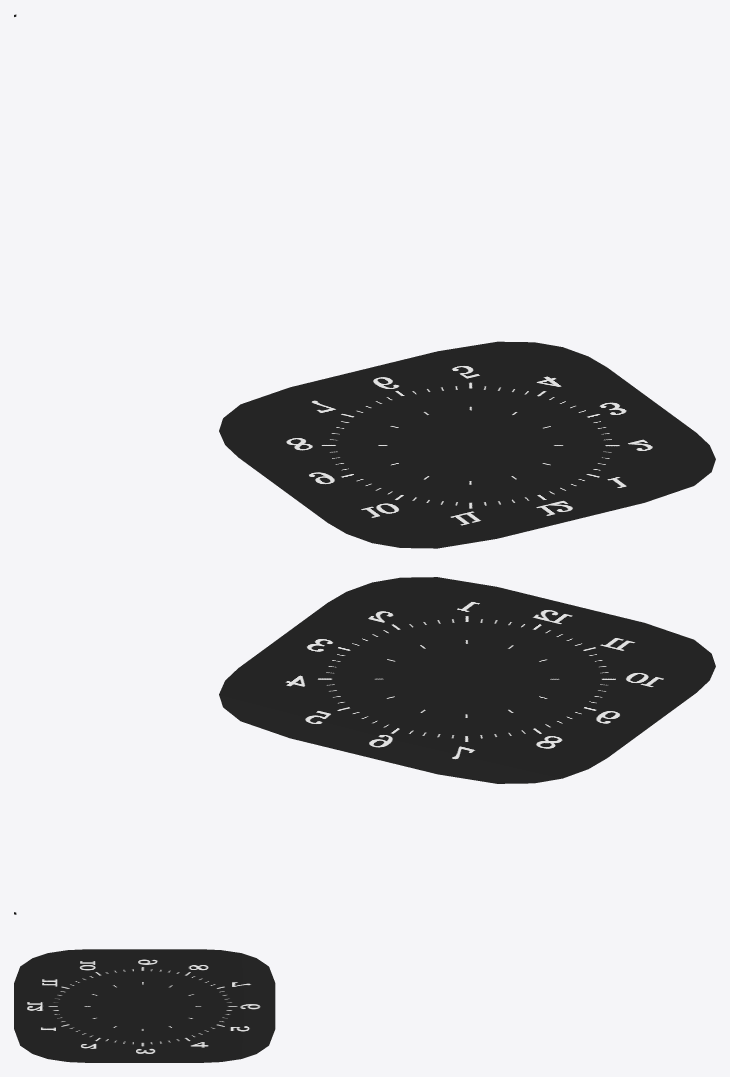
Rendered from AlarmClock_2_AlarmClock_2_0_GeomSubset_3.obj.
3 views of the same model, one above another, from view 1: azimuth 30°, elevation 25°; view 2: azimuth 150°, elevation 25°; view 3: azimuth 270°, elevation 25° (orthographic). The views are drawn at different scales.
Visible parts, largest first — view 1: AlarmClock_2_AlarmClock_2_0_GeomSubset_3; view 2: AlarmClock_2_AlarmClock_2_0_GeomSubset_3; view 3: AlarmClock_2_AlarmClock_2_0_GeomSubset_3.
Boxes of the visible parts, x1,y1,x2,y2 form: AlarmClock_2_AlarmClock_2_0_GeomSubset_3: (14,14,715,548); AlarmClock_2_AlarmClock_2_0_GeomSubset_3: (14,577,715,914); AlarmClock_2_AlarmClock_2_0_GeomSubset_3: (14,949,275,1062).
Bounding box in the file's own units: 0.1679 × 0.0432 × 0.4381.
